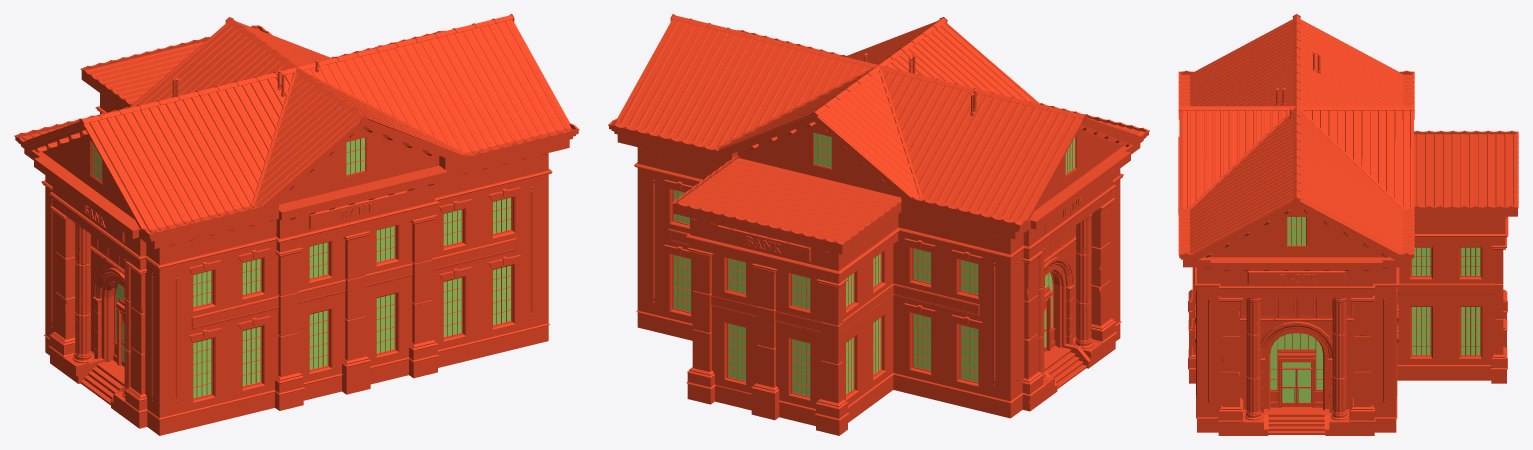
The model's file is SM_Bank_City.fbx.
3 views of the same model, side by side, from view 1: azimuth 30°, elevation 25°; view 2: azimuth 150°, elevation 25°; view 3: azimuth 270°, elevation 25° (orthographic). The views are drawn at different scales.
Visible parts, largest first — view 1: SM_Bank_City_Base; view 2: SM_Bank_City_Base; view 3: SM_Bank_City_Base, SM_Bank_City_Door_L_A, SM_Bank_City_Door_R_A.
Part boxes in pixels (bbox=[...]): SM_Bank_City_Base: bbox=[14, 14, 579, 435]; SM_Bank_City_Base: bbox=[608, 14, 1149, 435]; SM_Bank_City_Base: bbox=[1178, 14, 1518, 435]; SM_Bank_City_Door_L_A: bbox=[1296, 368, 1311, 406]; SM_Bank_City_Door_R_A: bbox=[1281, 368, 1296, 406].
Size of the model in its own units: 28.5 by 18.24 by 22.36.
